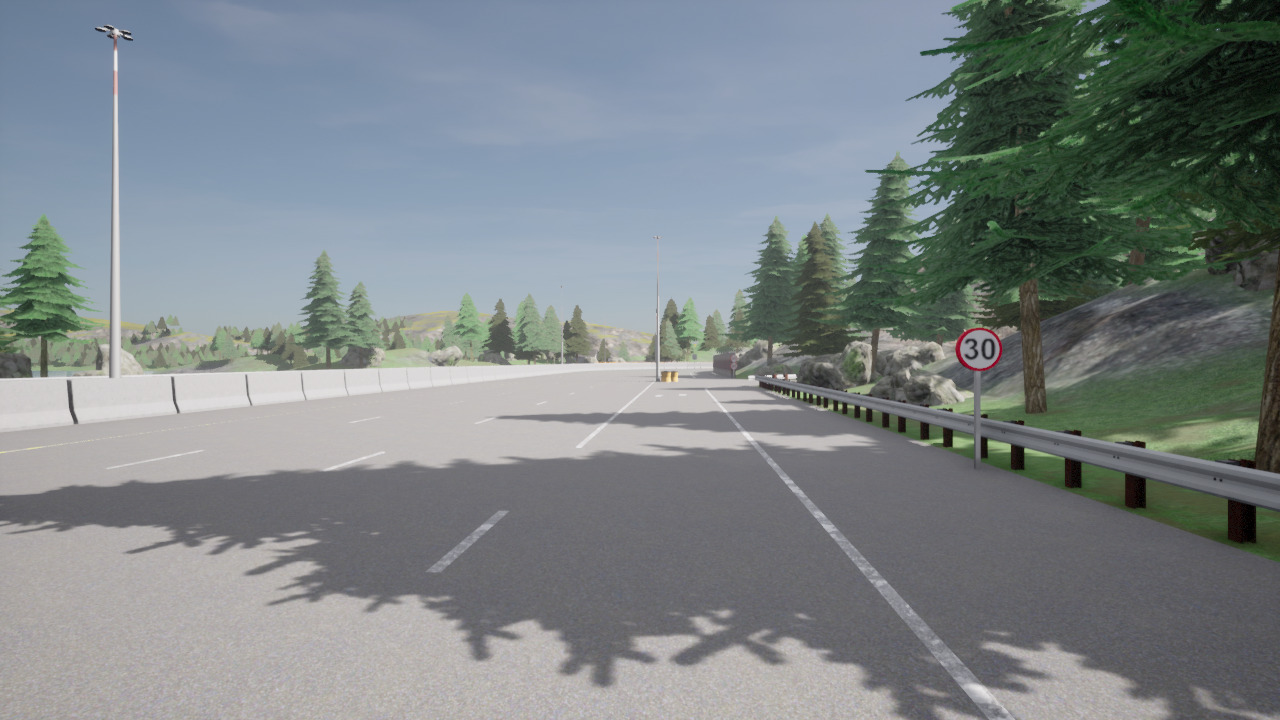sl30: (954, 327, 1003, 372)
